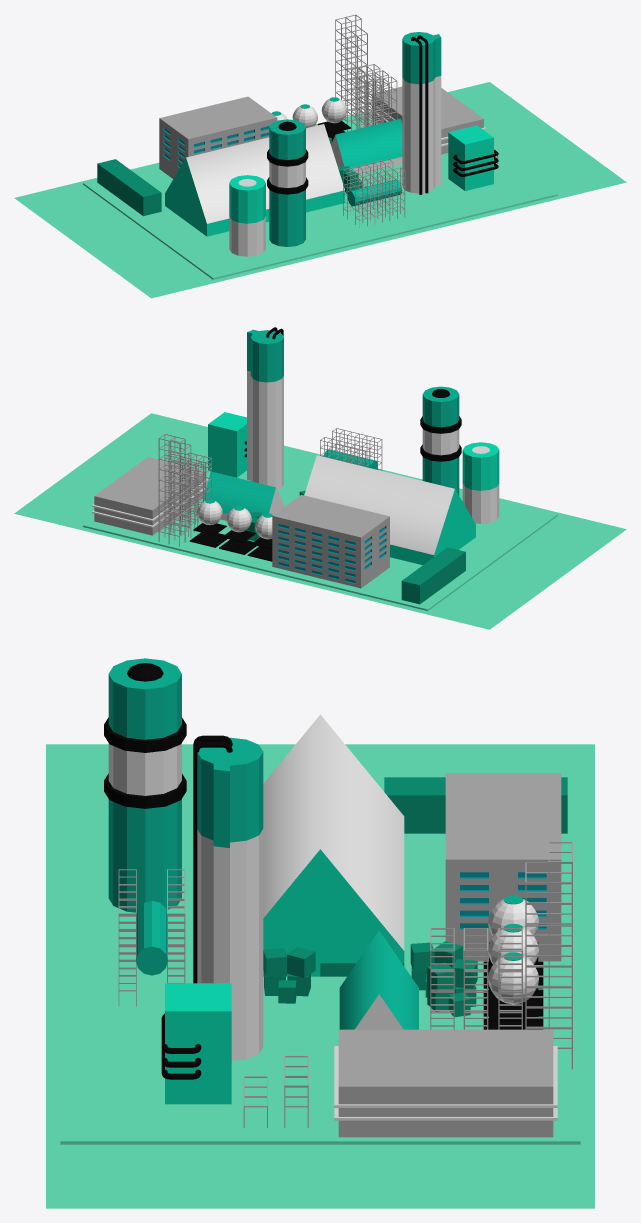
Rendered from factory_green.fbx.
The picture shows the model from 3 angles, top to bottom: view 1: azimuth 30°, elevation 25°; view 2: azimuth 150°, elevation 25°; view 3: azimuth 270°, elevation 25°; orthographic projection. The views are drawn at different scales.
Parts seen in each view (by area): view 1: ten_ght, pPlane1, pCube14, pCylinder15, pCube272, pCylinder17, pCube19, pCylinder18, pCube47, pCube41, pCube15, pCylinder20 (+4 smaller); view 2: ten_ght, pPlane1, pCube14, pCube272, pCylinder15, pCube15, pCylinder17, pCylinder18, pCube19, pCube47, pCube41, pSphere8 (+2 smaller); view 3: pPlane1, ten_ght, pCube14, pCube15, pCylinder15, pCube272, pCylinder17, pCube47, pCube19, pCube41, pCylinder20, pSphere12 (+5 smaller).
Part boxes in pixels (left/top/right/bottom): ten_ght: left=14, top=82, right=626, bottom=298; pPlane1: left=83, top=113, right=557, bottom=279; pCube14: left=165, top=124, right=344, bottom=236; pCylinder15: left=402, top=32, right=441, bottom=193; pCube272: left=159, top=96, right=277, bottom=178; pCylinder17: left=267, top=119, right=308, bottom=246; pCube19: left=331, top=118, right=402, bottom=174; pCylinder18: left=229, top=175, right=265, bottom=256; pCube47: left=448, top=125, right=493, bottom=190; pCube41: left=97, top=159, right=161, bottom=216; pCube15: left=369, top=86, right=486, bottom=154; pCylinder20: left=347, top=179, right=402, bottom=206; ten_ght: left=14, top=413, right=626, bottom=629; pPlane1: left=83, top=434, right=557, bottom=610; pCube14: left=304, top=455, right=475, bottom=565; pCube272: left=272, top=494, right=389, bottom=588; pCylinder15: left=247, top=329, right=283, bottom=489; pCube15: left=92, top=457, right=208, bottom=535; pCylinder17: left=420, top=386, right=461, bottom=495; pCylinder18: left=462, top=442, right=499, bottom=523; pCube19: left=202, top=471, right=284, bottom=520; pCube47: left=208, top=412, right=246, bottom=477; pCube41: left=401, top=547, right=465, bottom=604; pSphere8: left=226, top=508, right=251, bottom=532; pPlane1: left=60, top=805, right=580, bottom=1144; ten_ght: left=46, top=744, right=594, bottom=1208; pCube14: left=263, top=714, right=404, bottom=976; pCube15: left=334, top=1029, right=557, bottom=1137; pCylinder15: left=197, top=737, right=263, bottom=1060; pCube272: left=445, top=773, right=561, bottom=961; pCylinder17: left=104, top=658, right=186, bottom=912; pCube47: left=165, top=983, right=231, bottom=1104; pCube19: left=339, top=930, right=418, bottom=1029; pCube41: left=384, top=777, right=567, bottom=833; pCylinder20: left=136, top=901, right=167, bottom=975; pSphere12: left=488, top=955, right=538, bottom=1004.
Bounding box in the file's own units: 10 × 3.09 × 5.
